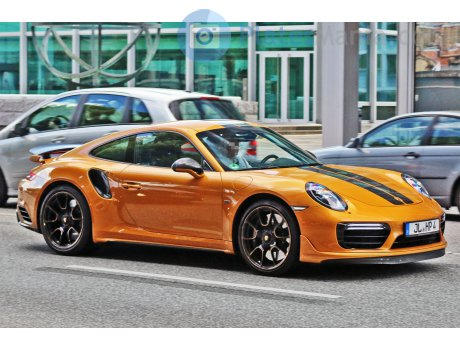License Plates: (408, 220, 442, 228)
